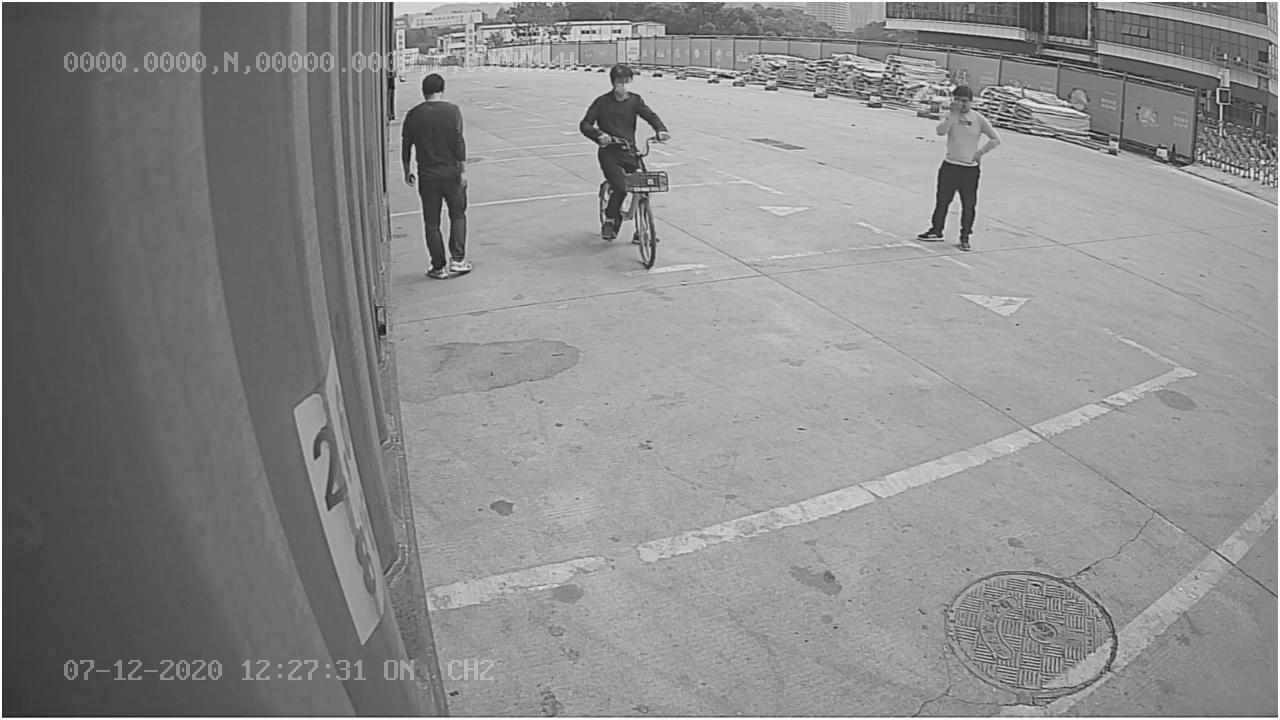person: (398, 71, 479, 284)
